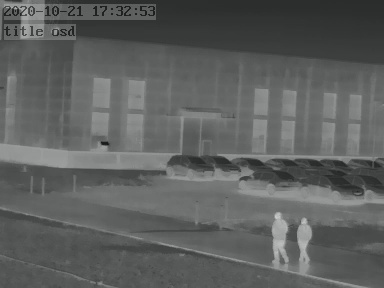person: (271, 210, 290, 265), (296, 214, 314, 266)
vehicle: (239, 169, 302, 192), (307, 173, 359, 200), (165, 153, 212, 178), (204, 153, 242, 177), (349, 173, 382, 200), (232, 155, 269, 171), (261, 155, 295, 169), (347, 156, 378, 170), (296, 155, 324, 169), (319, 156, 348, 169)
